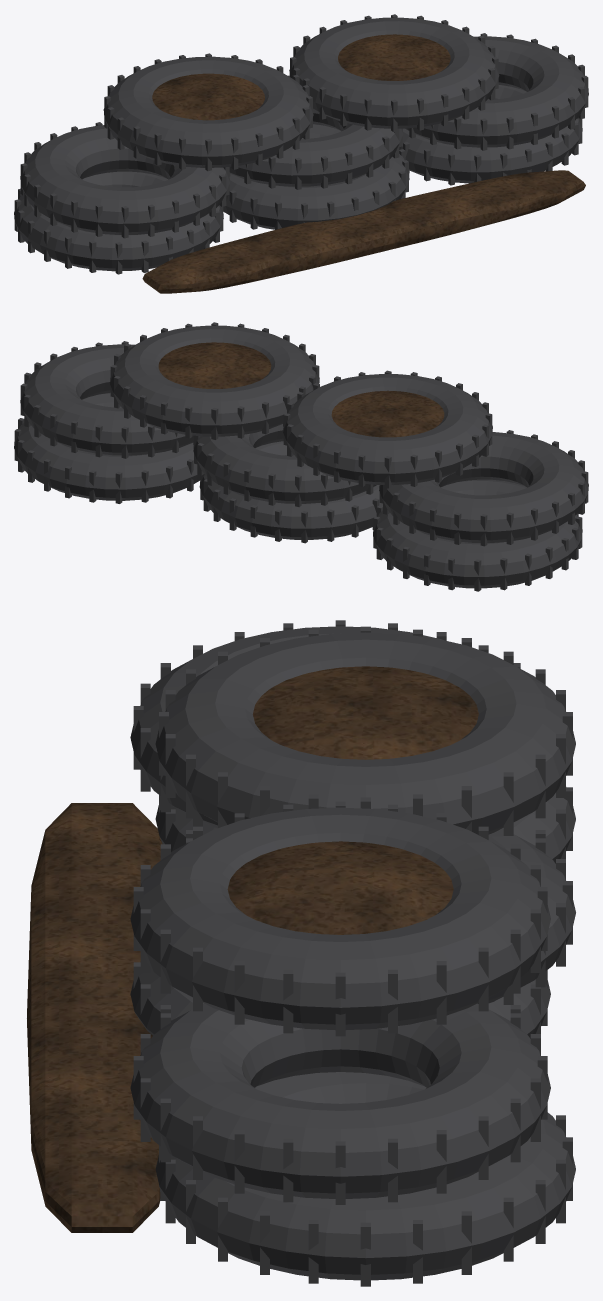
The model's file is barreira_pneus.glb.
3 views of the same model, one above another, from view 1: azimuth 30°, elevation 25°; view 2: azimuth 150°, elevation 25°; view 3: azimuth 270°, elevation 25° (orthographic). The views are drawn at different scales.
Visible parts, largest first — view 1: barreira_pneus_pneu, barreira_pneus_terra; view 2: barreira_pneus_pneu, barreira_pneus_terra; view 3: barreira_pneus_pneu, barreira_pneus_terra.
Boxes of the visible parts, x1,y1,x2,y2 form: barreira_pneus_pneu: (14,14,588,274); barreira_pneus_terra: (142,34,585,293); barreira_pneus_pneu: (14,322,588,591); barreira_pneus_terra: (158,342,444,437); barreira_pneus_pneu: (130,620,575,1286); barreira_pneus_terra: (27,666,478,1232).
Bounding box in the file's own units: 1.99 × 0.4386 × 0.875.
Materials: 2 (1 with a texture image).
